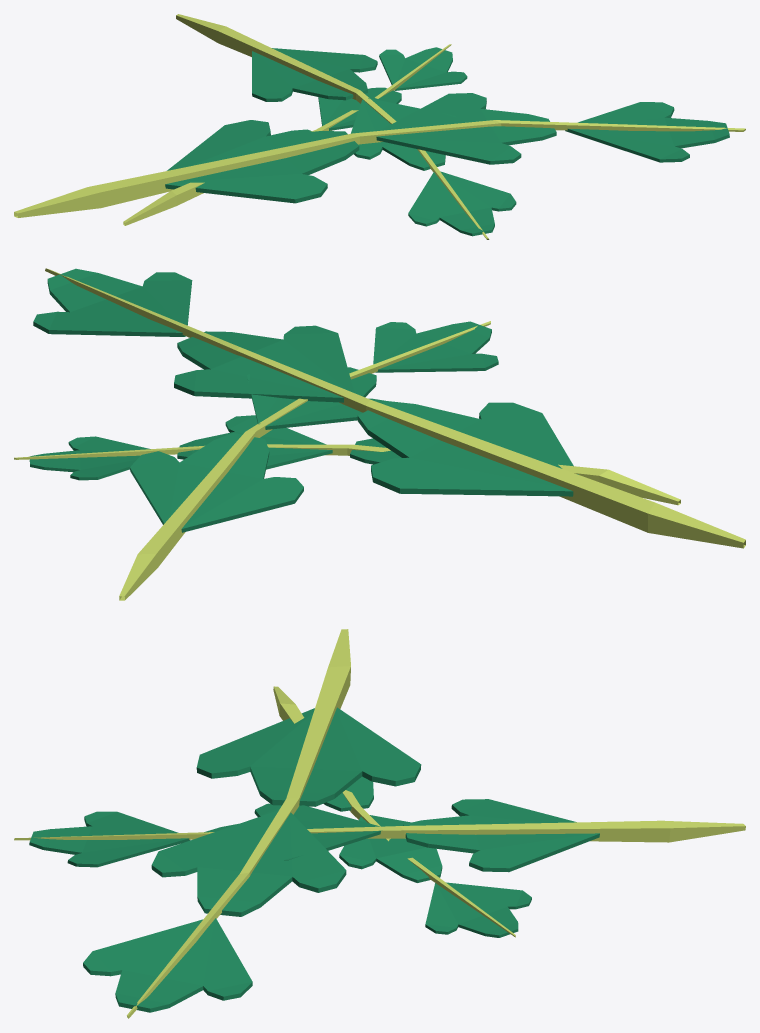
Rendered from Carrot_Harvested.fbx.
3 views of the same model, one above another, from view 1: azimuth 30°, elevation 25°; view 2: azimuth 150°, elevation 25°; view 3: azimuth 270°, elevation 25° (orthographic). The views are drawn at different scales.
Parts seen in each view (by area): view 1: Carrot_Harvested; view 2: Carrot_Harvested; view 3: Carrot_Harvested.
Boxes of the visible parts, <box> form: Carrot_Harvested: <box>14,14,745,239</box>; Carrot_Harvested: <box>14,268,745,600</box>; Carrot_Harvested: <box>14,629,745,1018</box>.
Size of the model in its own units: 36.28 by 1.55 by 29.57.
